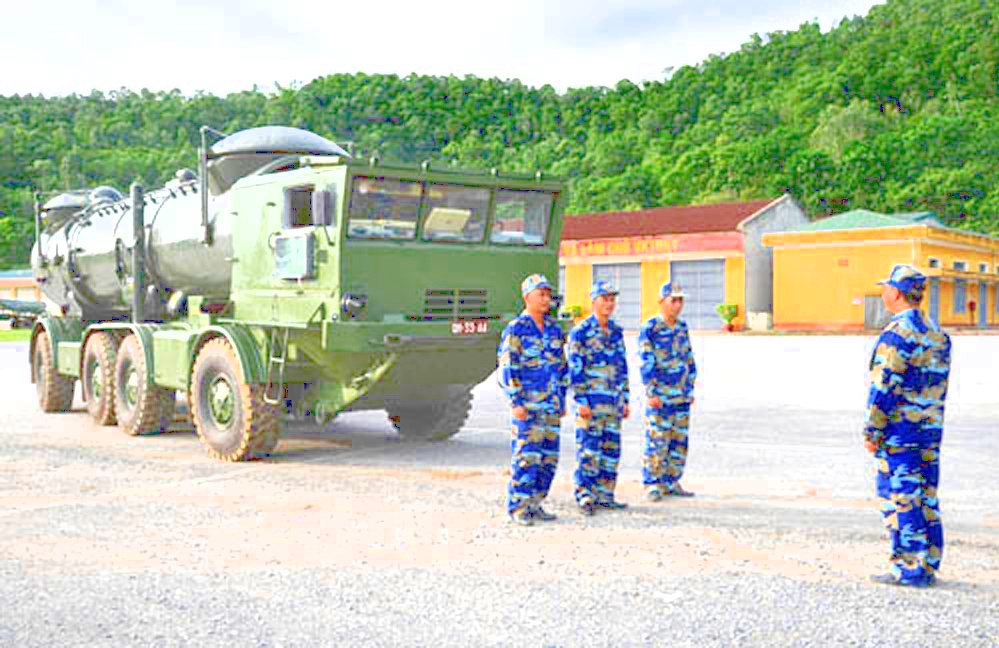plate: (447, 315, 493, 340)
